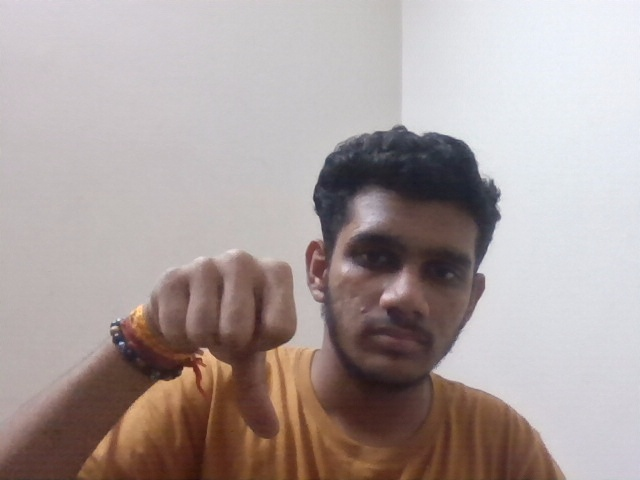yes: (140, 247, 312, 444)
